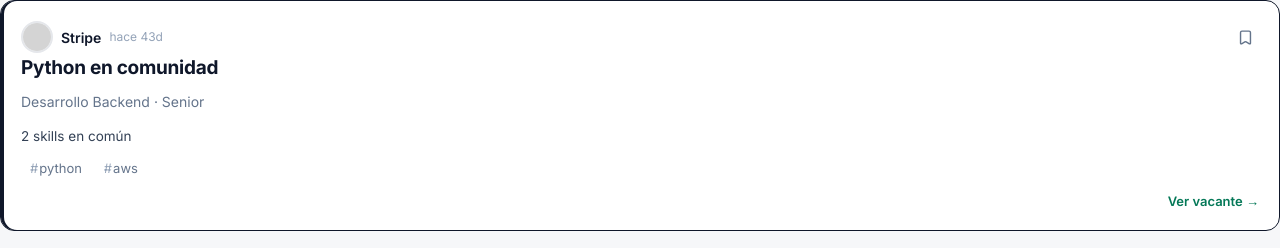
Scenario: ForYouCard › saves and unsaves the vacancy
Later steps or results of the test are not shown.
Click the button named "Guardar".
click(1246, 37)  # box [1232, 24, 1259, 50]
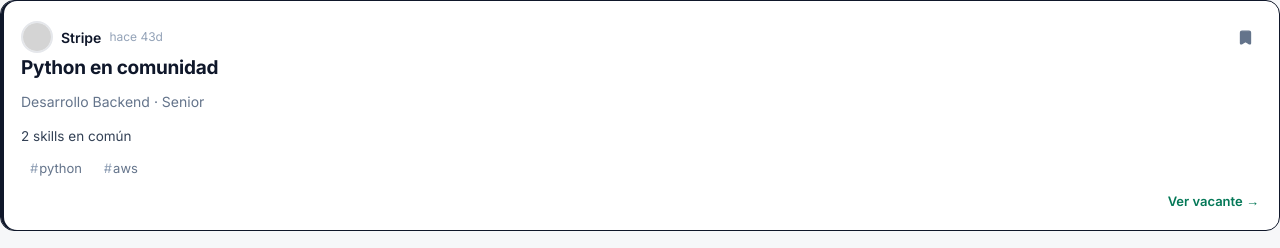
Check: the button named "Guardar" has class "saved", box [1232, 24, 1259, 50]
